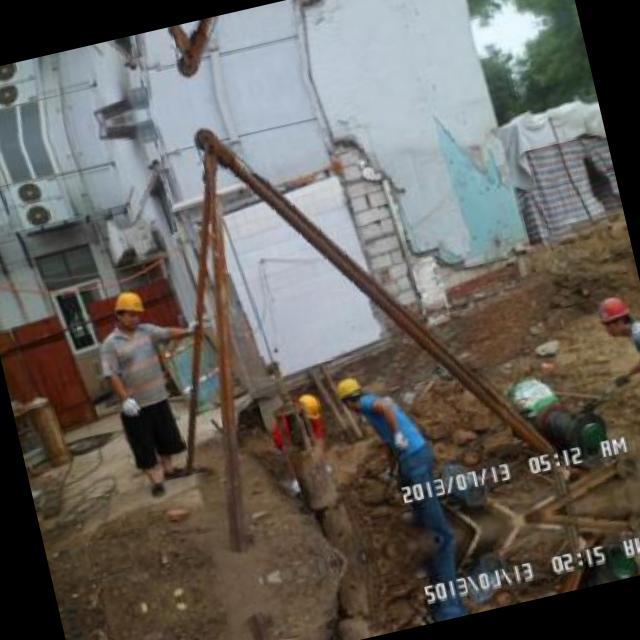helmet: (104, 284, 148, 332), (594, 292, 634, 338), (334, 371, 368, 416), (291, 391, 321, 429)
